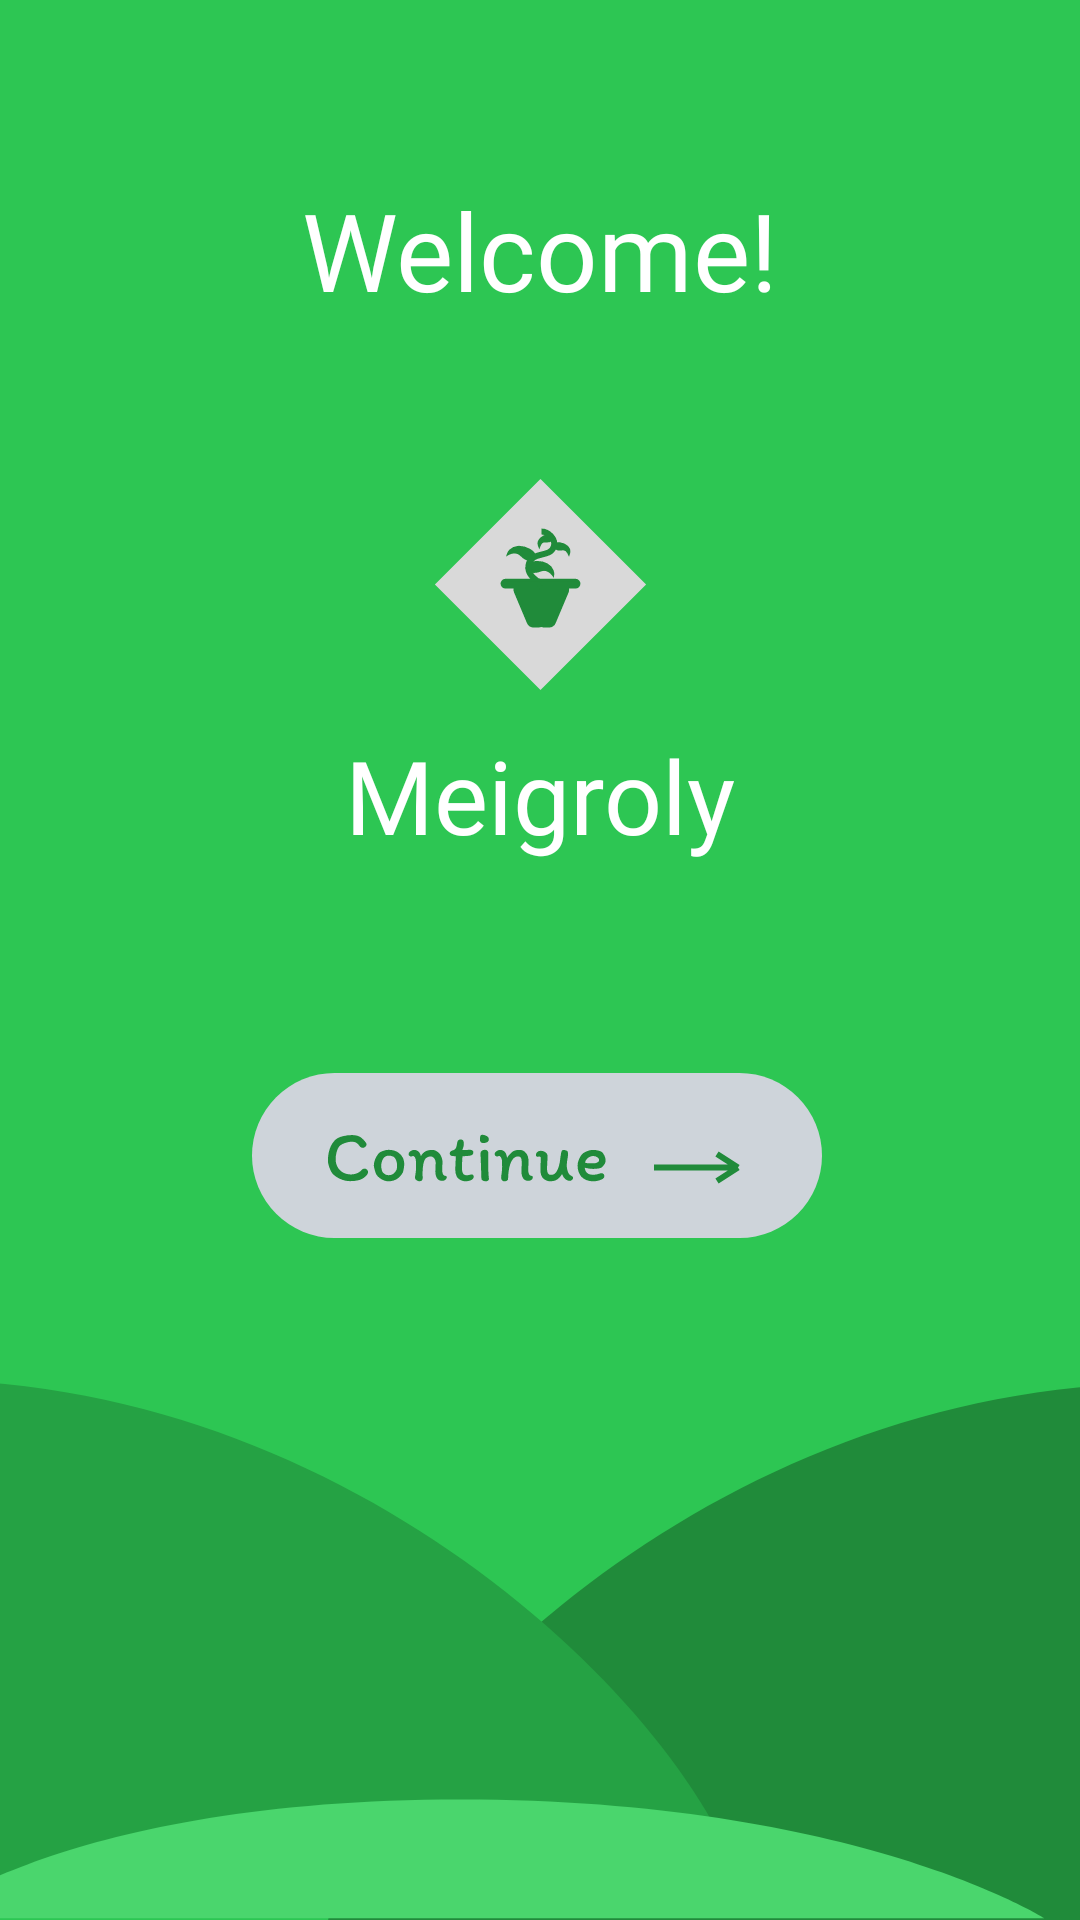

Named icons in this screenshot (1080 × 1920) and their centers, (x=x, y=y):
symbol: (x=540, y=584)
